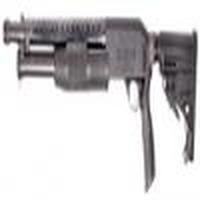gun: (6, 16, 193, 142)
